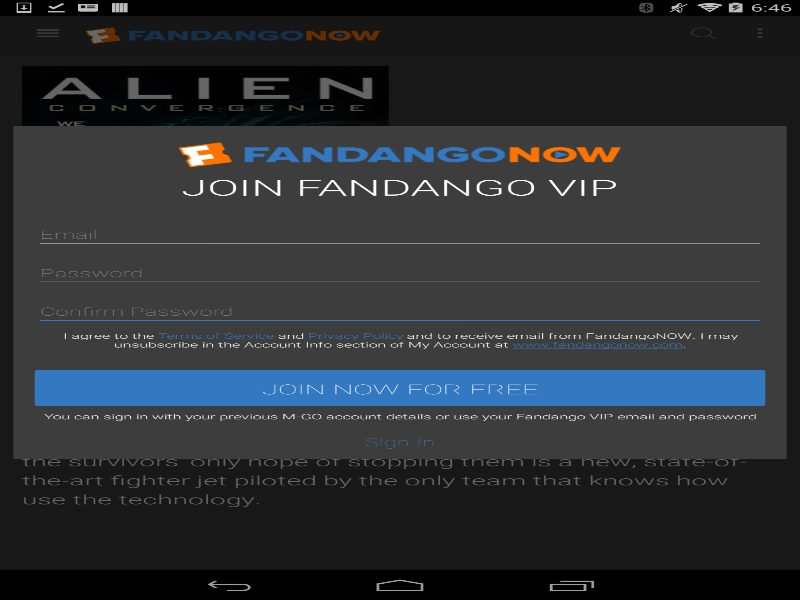Button: (34, 369, 765, 406)
Input: (34, 258, 765, 287), (34, 220, 765, 248), (34, 297, 765, 325)
